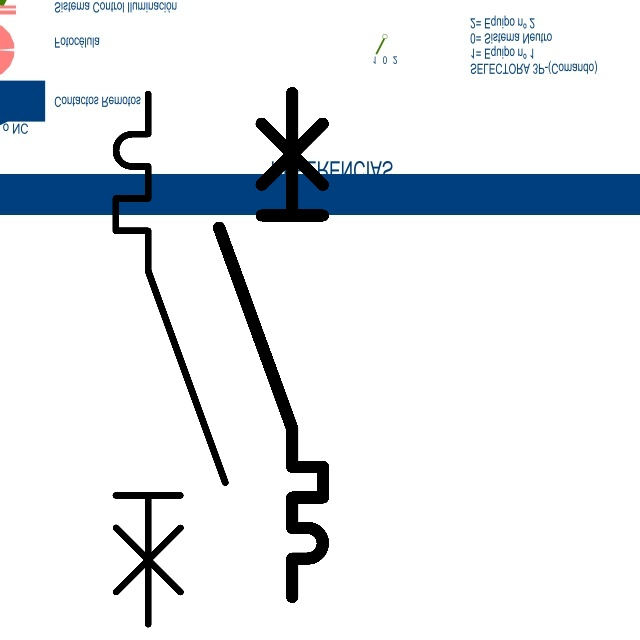interruptor_termomagnetico: (102, 80, 238, 638), (206, 80, 336, 610)
